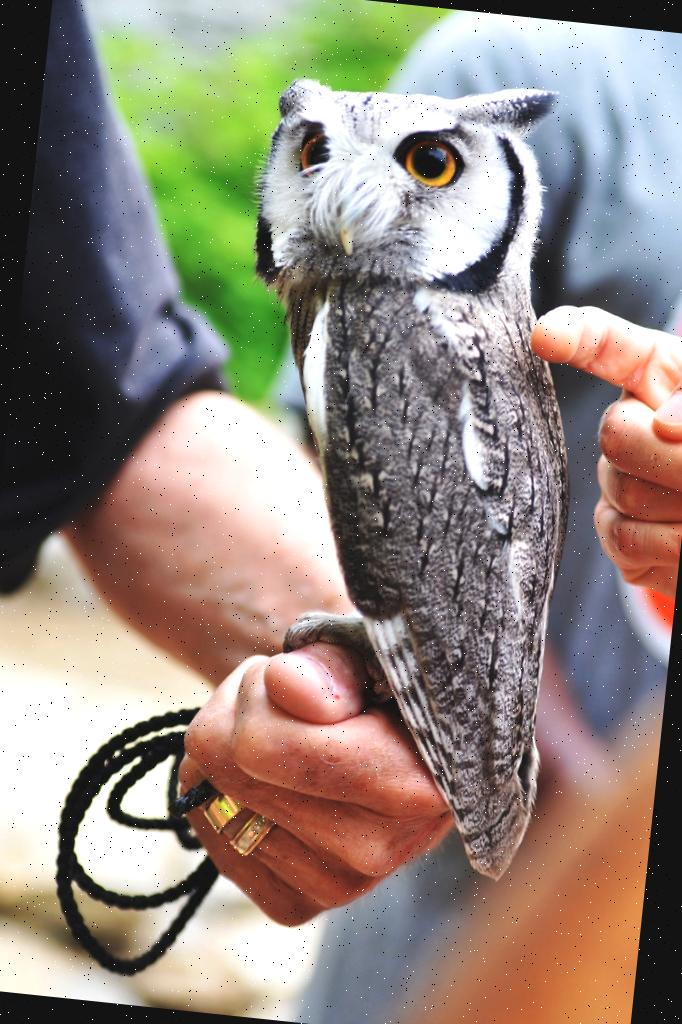Owl: (183, 57, 618, 892)
